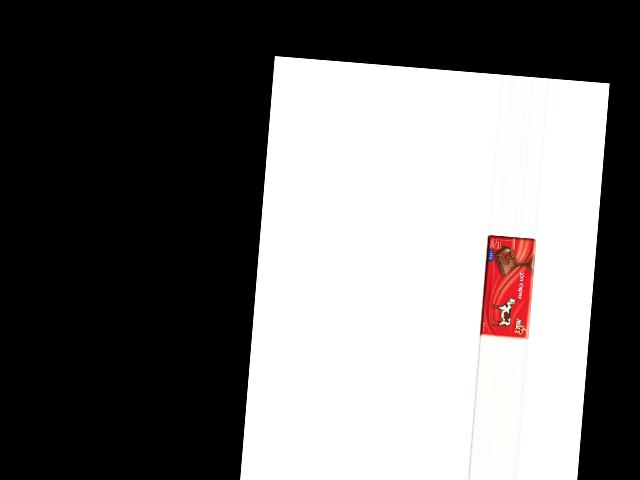chocolate: (479, 234, 536, 340)
